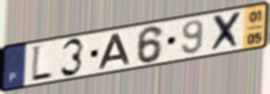3: (58, 37, 91, 78)
6: (136, 24, 165, 65)
9: (179, 19, 205, 56)
A: (96, 32, 132, 71)
L: (30, 44, 54, 85)
X: (209, 9, 244, 54)
